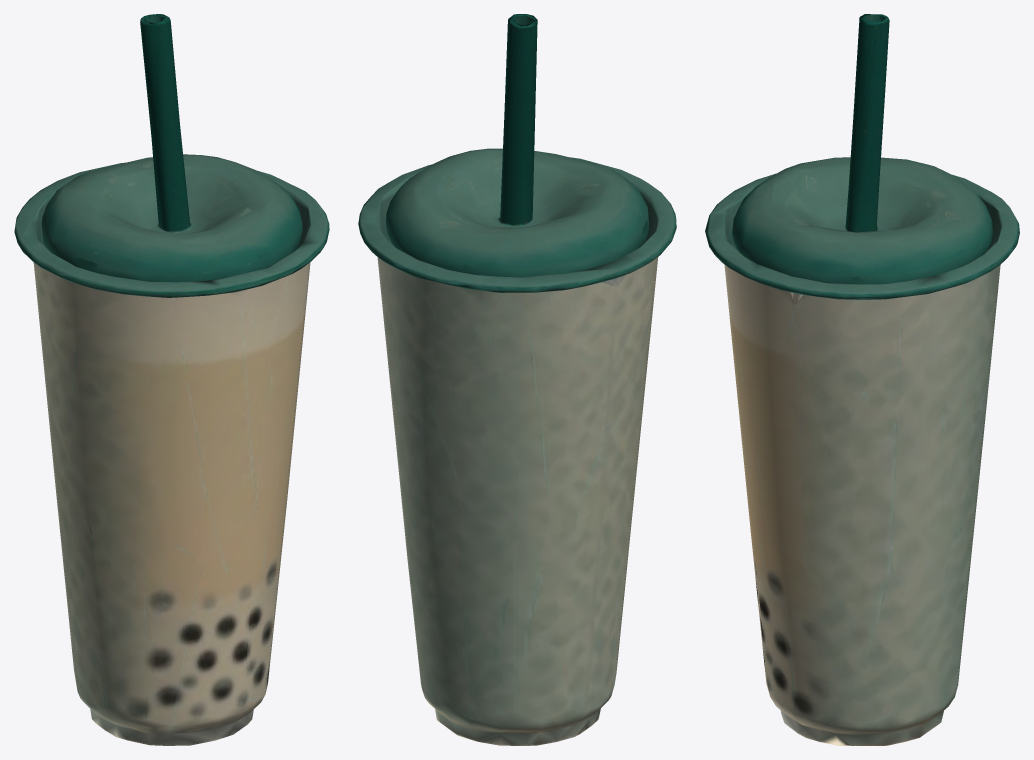
The model's file is developer-boba.glb.
The picture shows the model from 3 angles, left to right: view 1: azimuth 30°, elevation 25°; view 2: azimuth 150°, elevation 25°; view 3: azimuth 270°, elevation 25°; orthographic projection.
Bounding box in the file's own units: 0.7821 × 1.9 × 0.7843.
Materials: 1 (1 with a texture image).
